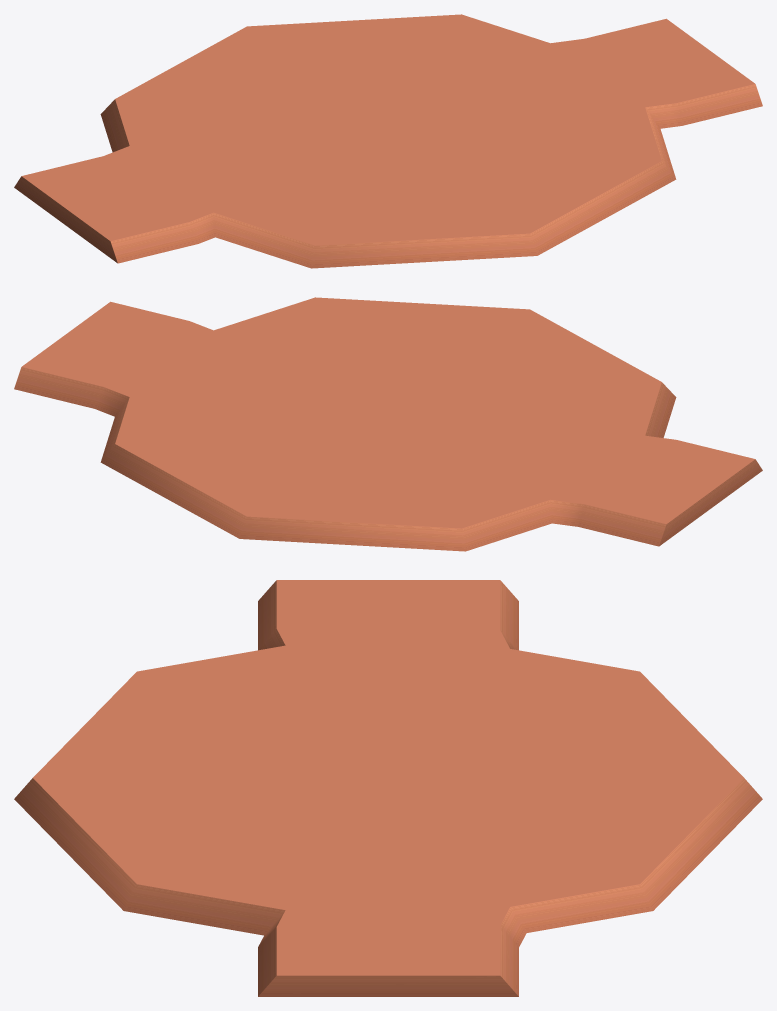
Rendered from path-square.glb.
3 renders of one model, top to bottom at view 1: azimuth 30°, elevation 25°; view 2: azimuth 150°, elevation 25°; view 3: azimuth 270°, elevation 25°, orthographic. The views are drawn at different scales.
Visible parts, largest first — view 1: path-square; view 2: path-square; view 3: path-square.
Part boxes in pixels (box(x1,y1,x2,y2)): path-square: box(14, 14, 762, 268); path-square: box(14, 297, 762, 551); path-square: box(14, 580, 762, 996).
Bounding box in the file's own units: 1 × 0.025 × 0.8.
1 material, 1 textured.
